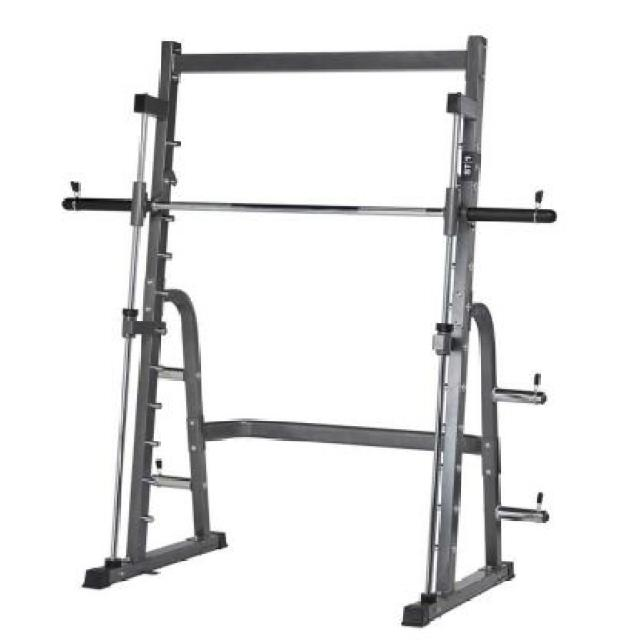smith machine: (63, 35, 557, 628)
